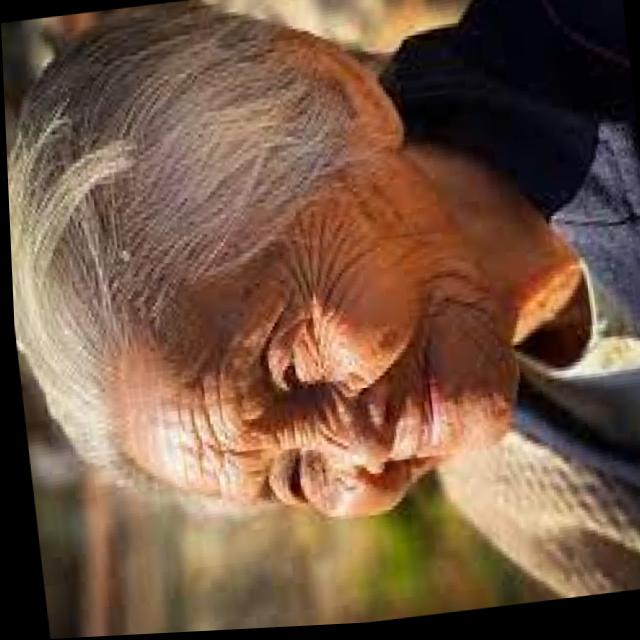Wrinkles: (164, 331, 272, 506), (276, 207, 374, 327), (405, 270, 508, 377)
